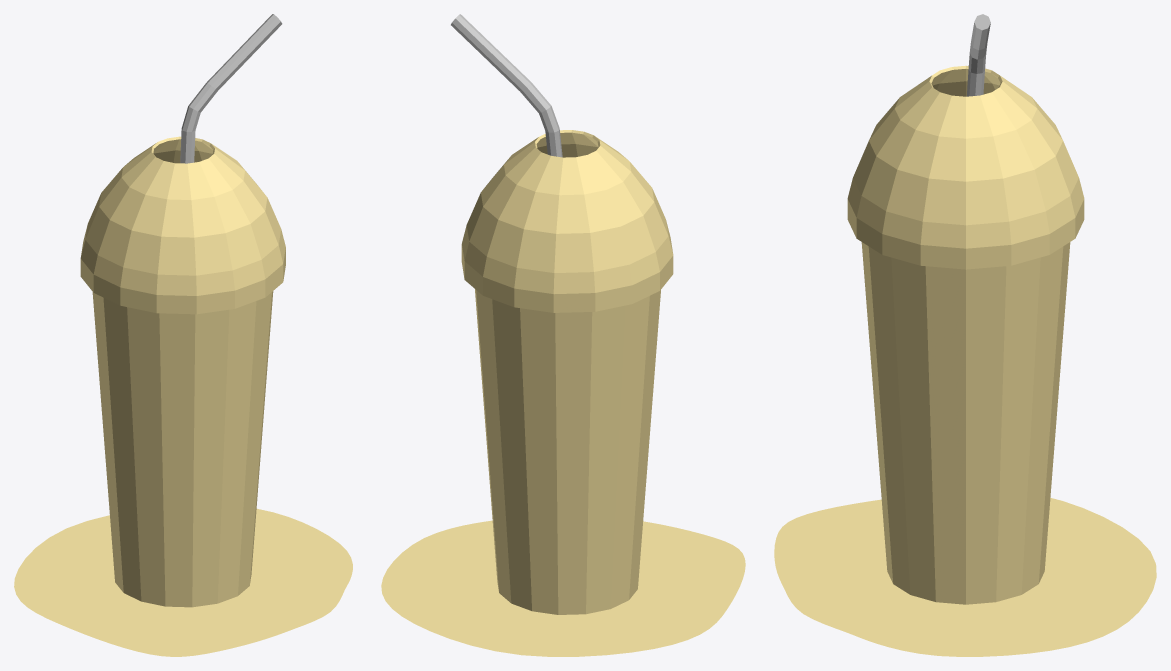
File: Juice.fbx
The picture shows the model from 3 angles, left to right: view 1: azimuth 30°, elevation 25°; view 2: azimuth 150°, elevation 25°; view 3: azimuth 270°, elevation 25°; orthographic projection. The views are drawn at different scales.
Parts seen in each view (by area): view 1: node_id9, node_id8, node_id4, node_id6; view 2: node_id9, node_id8, node_id4, node_id6; view 3: node_id9, node_id8, node_id4, node_id6.
Part boxes in pixels (x1,y1,x2,y2): node_id9: (92,291,273,607); node_id8: (80,136,285,314); node_id4: (14,508,352,656); node_id6: (180,14,282,163); node_id9: (475,289,660,614); node_id8: (461,130,673,312); node_id4: (381,520,745,656); node_id6: (451,14,562,157); node_id9: (861,242,1070,604); node_id8: (847,65,1084,269); node_id4: (774,497,1156,656); node_id6: (966,14,990,96).
Size of the model in its own units: 0.0496 by 0.0846 by 0.0479.
5 materials, 4 textured.
